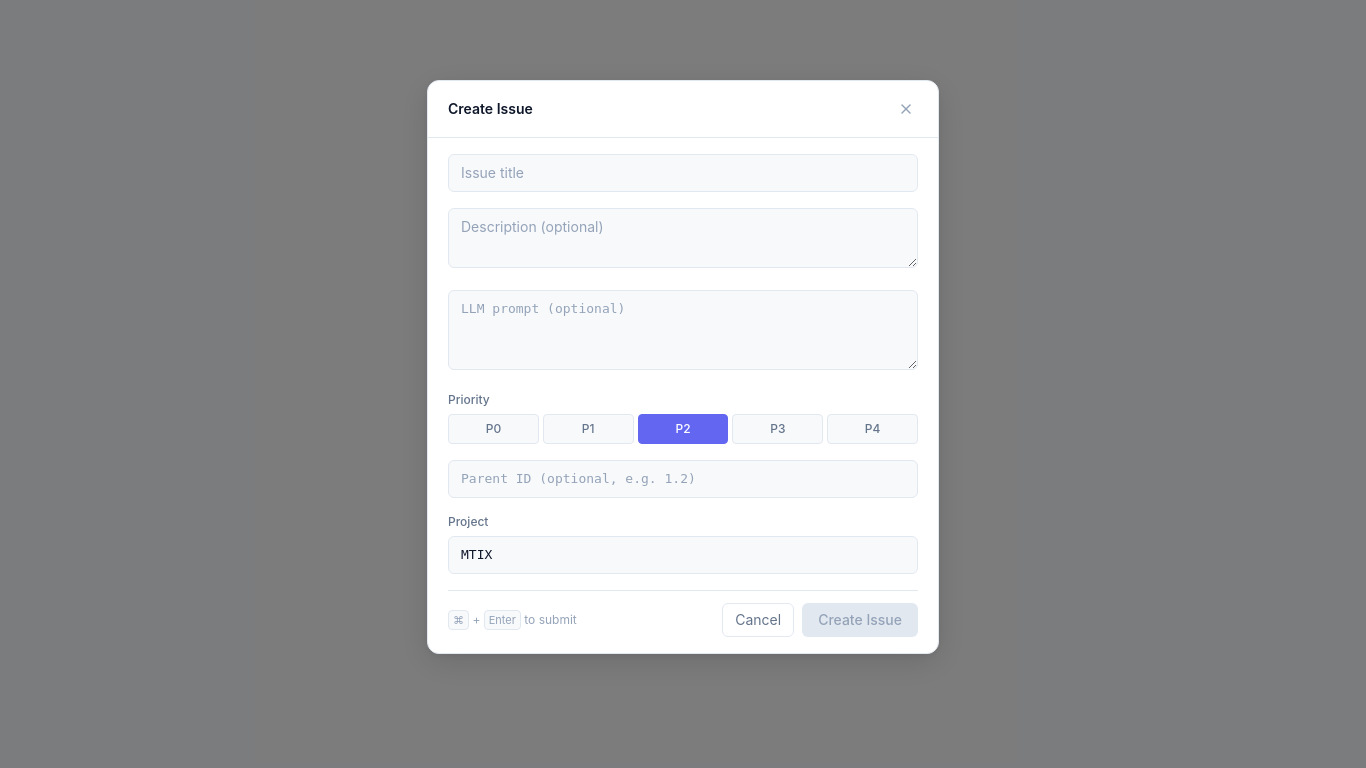
CreateNodeModal — project field › rejects an invalid project prefix without confirming
The image size is (1366, 768).
Type "Oops" into the field with test id "create-title".
click(683, 173); type("Oops")  # box x1=448 y1=154 x2=918 y2=192
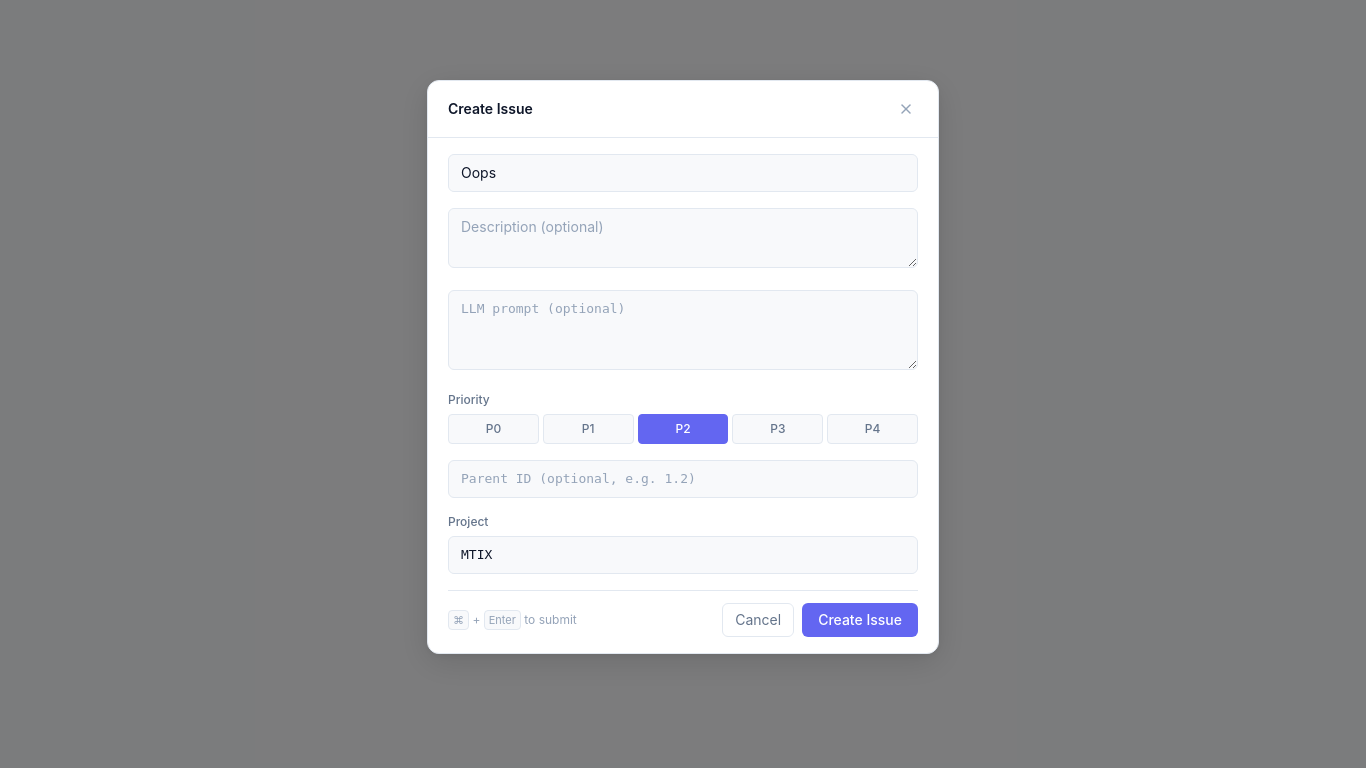
Replace the text in the field with test id "create-project" with "bad prefix" at (683, 555), box x1=448 y1=536 x2=918 y2=574
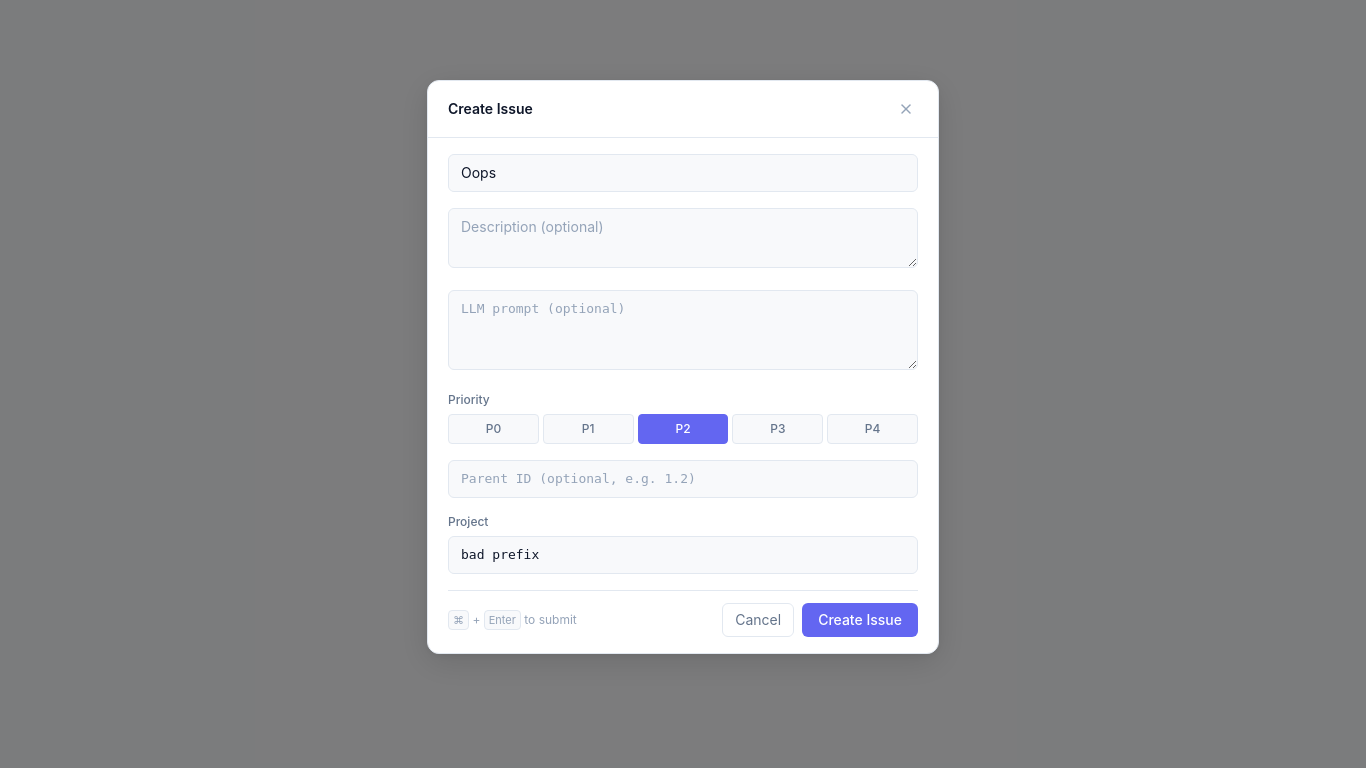
Click the button with test id "create-submit".
click(860, 620)  # box x1=802 y1=603 x2=918 y2=637
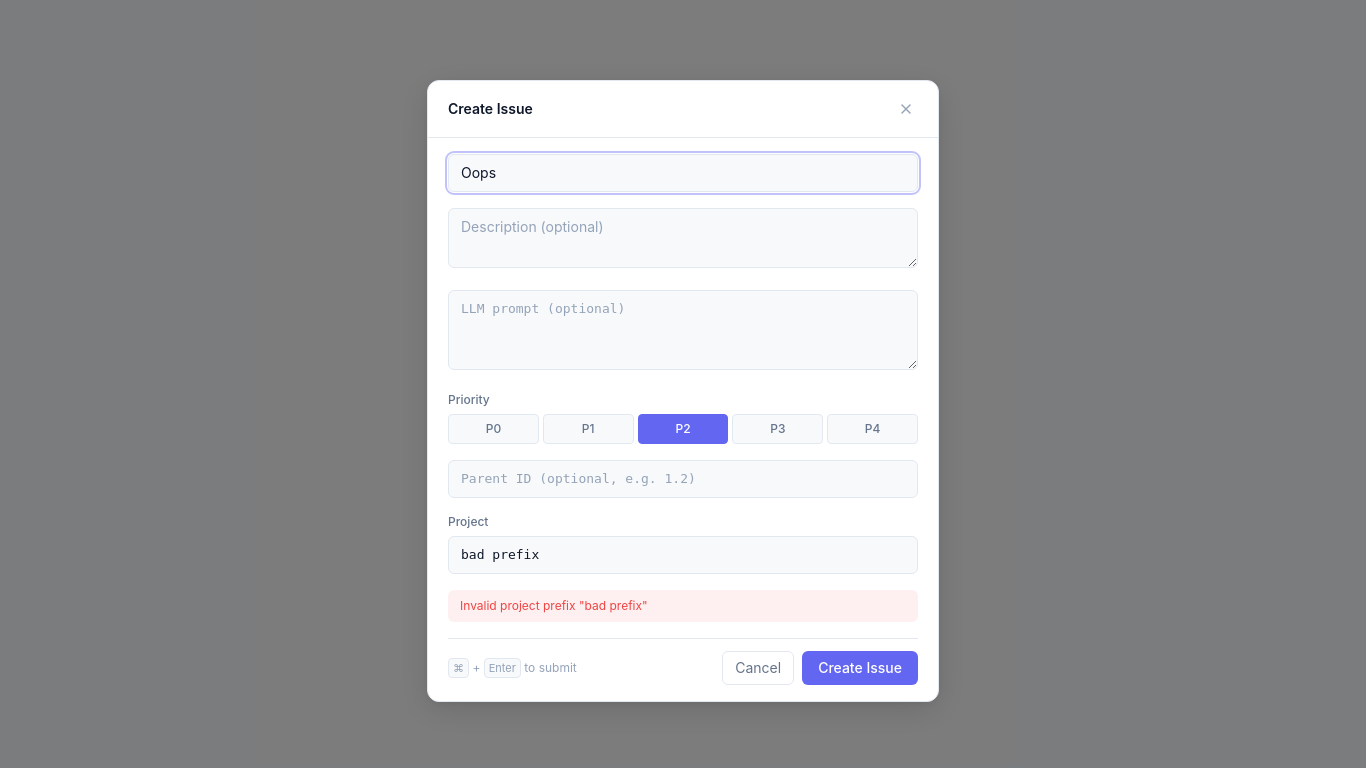
Expected: the text with test id "create-error" shows "Invalid project", x1=460 y1=598 x2=648 y2=613
